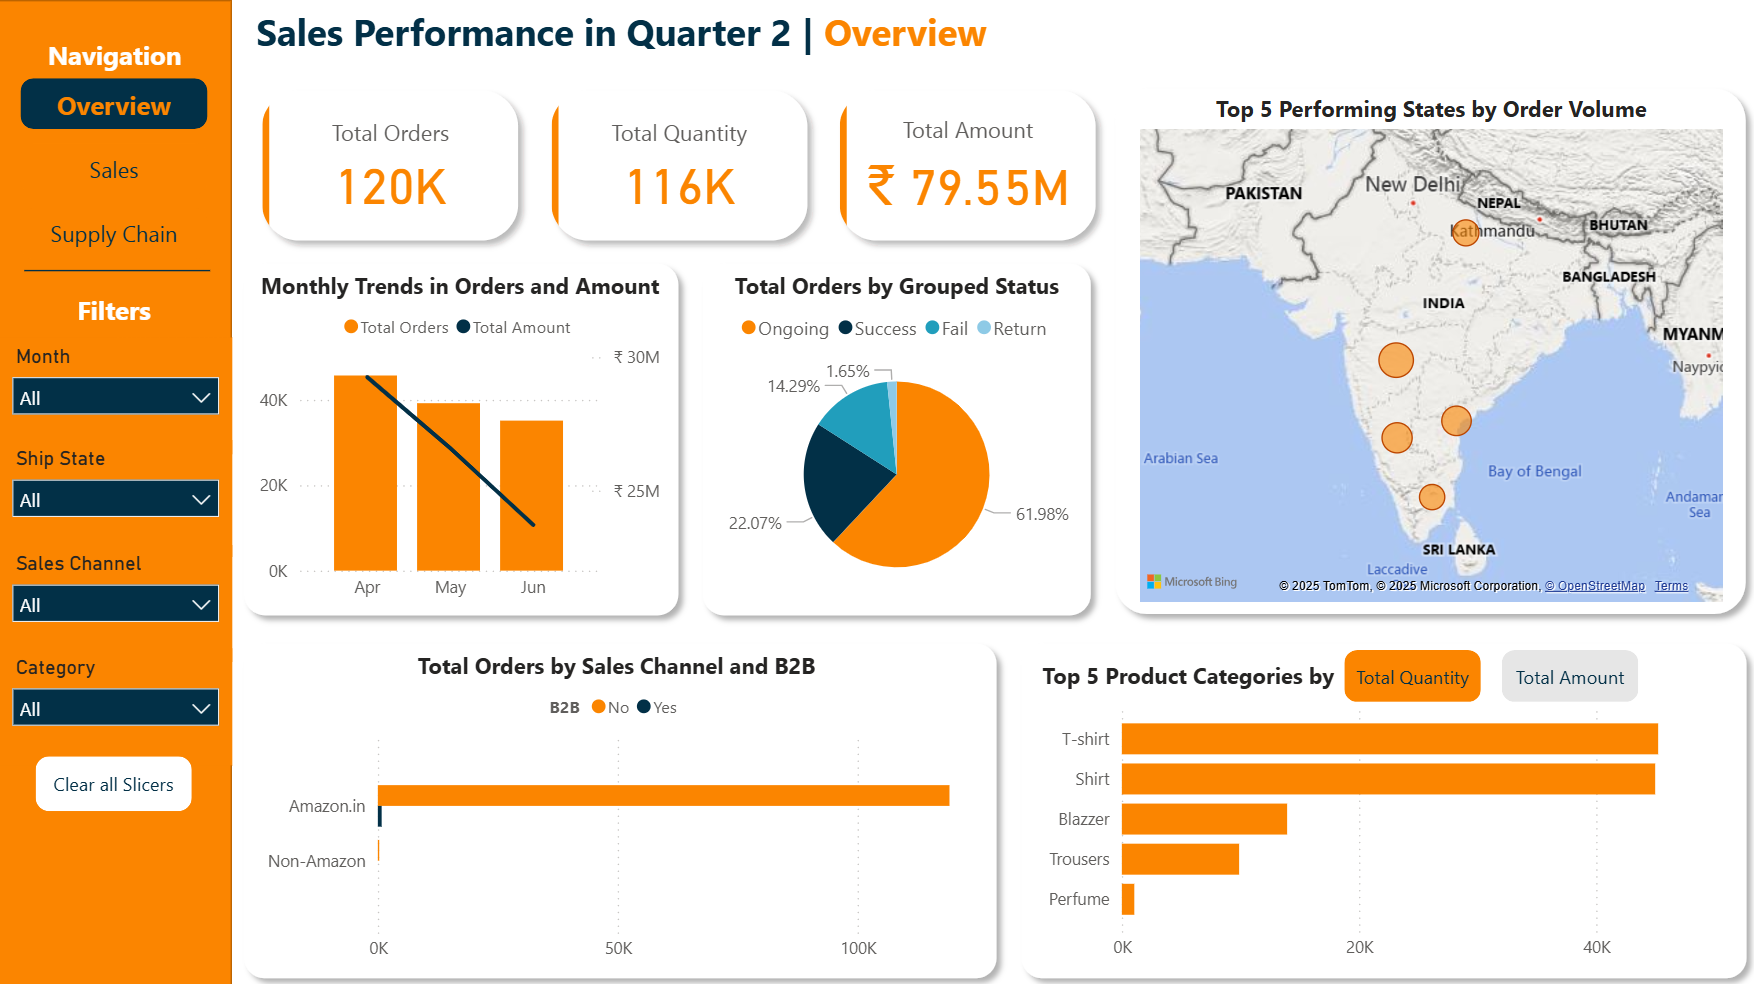

This screenshot's page, from the dashboard's own definition file:
{"tool":"powerbi","page":{"name":"Overview","canvas":[1280,720],"ordinal":0},"visuals":[{"type":"shape","box":[0,0,170.2,720.4],"z":0},{"type":"slicer","fields":{"Values":["Date Dimension.Month Name"]},"box":[0,245.8,170.4,84.6],"z":0,"group":"g1"},{"type":"shape","box":[170.4,459,565.2,261.4],"z":0,"group":"g2"},{"type":"clusteredBarChart","title":"Top 5 Product Categories by","fields":{"Category":["Amazon_Sale.Category"],"Y":["Measure.Total Quantity"]},"box":[754.6,480.7,509.2,227],"z":0,"group":"g3"},{"type":"textbox","box":[182.5,0,714.9,54.9],"z":1000},{"type":"slicer","fields":{"Values":["Amazon_Sale.Ship State"]},"box":[0,320.4,170.4,84.6],"z":1000,"group":"g1"},{"type":"actionButton","box":[978.8,473.1,99.5,38],"z":1000,"group":"g3"},{"type":"cardVisual","fields":{"Data":["Measure.Total Orders","Measure.Total Quantity","Measure.Total Amount"]},"box":[175.1,48.8,640.3,143.8],"z":2000},{"type":"slicer","fields":{"Values":["Amazon_Sale.Sales Channel"]},"box":[0,396.3,170.4,84.6],"z":2000,"group":"g1"},{"type":"actionButton","box":[1093.3,473.1,99.5,38],"z":2000,"group":"g3"},{"type":"shape","box":[804.1,55,476.4,400.2],"z":3000},{"type":"slicer","fields":{"Values":["Amazon_Sale.Category"]},"box":[0,472.2,170.4,84.6],"z":3000,"group":"g1"},{"type":"shape","box":[170.1,182.6,333.9,273.9],"z":4000},{"type":"lineClusteredColumnComboChart","title":"Monthly Trends in Orders and Amount","fields":{"Category":["Date Dimension.Month Name"],"Y":["Measure.Total Orders"],"Y2":["Measure.Total Amount"]},"box":[185.1,196.3,301.4,248.8],"z":5000},{"type":"shape","box":[735.3,458.9,545.2,261.4],"z":6000},{"type":"map","title":"Top 5 Performing States by Order Volume","fields":{"Category":["Amazon_Sale.Ship State"],"Size":["Measure.Total Orders"]},"box":[825.3,67.5,433.9,375.1],"z":7000},{"type":"shape","box":[503.9,182.6,300.1,273.9],"z":8000},{"type":"pageNavigator","title":"Navigation","box":[16.2,27.4,136.8,161.7],"z":9000},{"type":"actionButton","box":[34.8,205.3,99.5,39.8],"z":10000},{"type":"shape","box":[18.7,167.9,135.6,57.2],"z":11000},{"type":"pieChart","fields":{"Category":["Amazon_Sale.Grouped Status"],"Y":["Measure.Total Orders"]},"box":[518.8,196.2,269.4,246.2],"z":12000},{"type":"group","id":"g1","title":"Slicers","box":[0,245.8,170.6,310.9],"z":13000},{"type":"actionButton","box":[27.5,550,113.8,40],"z":14000},{"type":"group","id":"g2","title":"Group 2","box":[170.4,459,564.8,261.2],"z":15000},{"type":"group","id":"g3","title":"G3_Total Quantity","box":[754.6,473.1,509.2,234.6],"z":16000},{"type":"clusteredBarChart","fields":{"Category":["Amazon_Sale.Sales Channel"],"Y":["Measure.Total Orders"],"Series":["Amazon_Sale.B2B"]},"box":[185.3,472.7,528.7,235.1],"z":18000}]}

Visuals, with their boxes in screenshot pixels (x1, y1, x2, y2), scaled from the page's 1280x720 canvas onto the 1754x984 screenshot:
shape: box=[0, 0, 233, 983]
slicer - Date Dimension.Month Name: box=[0, 336, 234, 452]
shape: box=[234, 627, 1008, 983]
"Top 5 Product Categories by" clusteredBarChart: box=[1034, 657, 1732, 967]
textbox: box=[250, 0, 1230, 75]
slicer - Amazon_Sale.Ship State: box=[0, 438, 234, 554]
actionButton: box=[1341, 647, 1478, 699]
cardVisual - Measure.Total Orders x Measure.Total Quantity: box=[240, 67, 1117, 263]
slicer - Amazon_Sale.Sales Channel: box=[0, 542, 234, 657]
actionButton: box=[1498, 647, 1635, 699]
shape: box=[1102, 75, 1753, 622]
slicer - Amazon_Sale.Category: box=[0, 645, 234, 761]
shape: box=[233, 250, 691, 624]
"Monthly Trends in Orders and Amount" lineClusteredColumnComboChart: box=[254, 268, 667, 608]
shape: box=[1008, 627, 1753, 983]
"Top 5 Performing States by Order Volume" map: box=[1131, 92, 1725, 605]
shape: box=[691, 250, 1102, 624]
"Navigation" pageNavigator: box=[22, 37, 210, 258]
actionButton: box=[48, 281, 184, 335]
shape: box=[26, 229, 211, 308]
pieChart - Amazon_Sale.Grouped Status x Measure.Total Orders: box=[711, 268, 1080, 605]
"Slicers" group: box=[0, 336, 234, 761]
actionButton: box=[38, 752, 194, 806]
"Group 2" group: box=[234, 627, 1007, 983]
"G3_Total Quantity" group: box=[1034, 647, 1732, 967]
clusteredBarChart - Amazon_Sale.Sales Channel x Measure.Total Orders: box=[254, 646, 978, 967]
